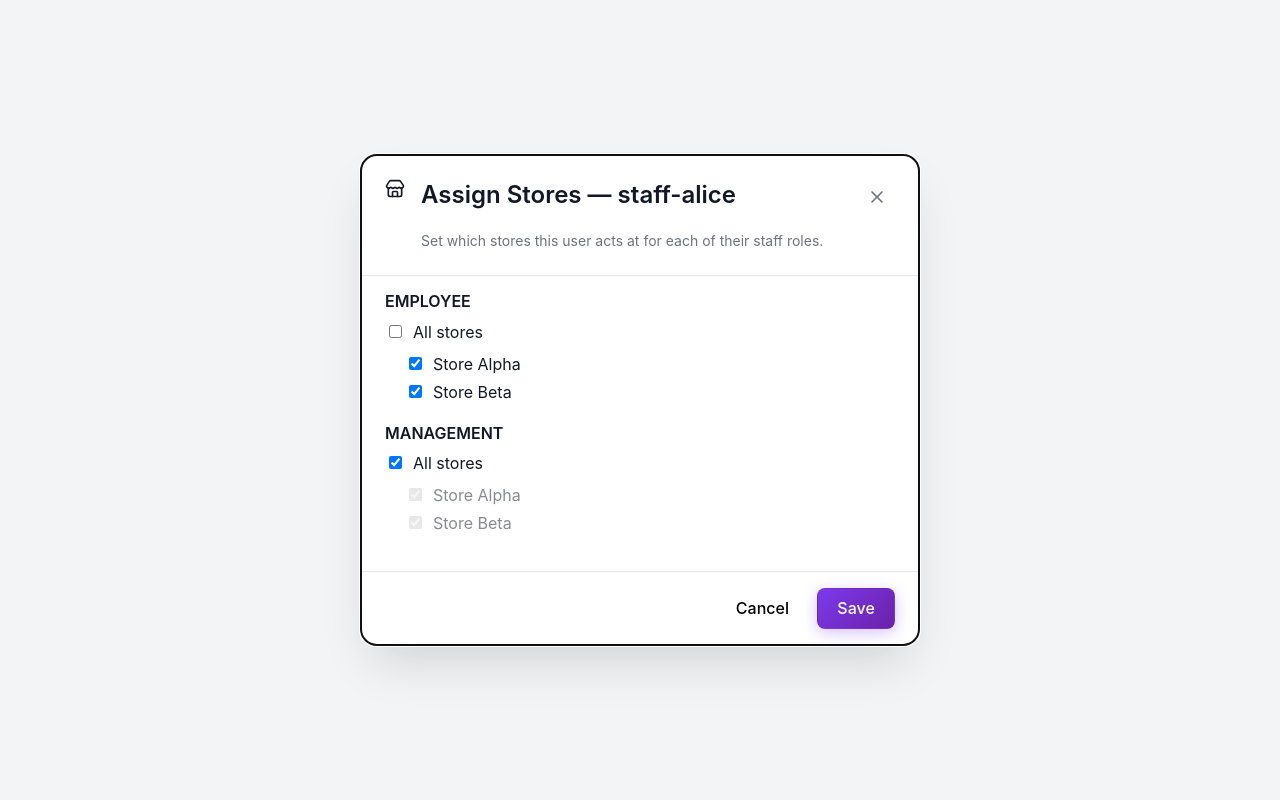
Test case: StoreRoleAssignmentModal › surfaces API error in a role="alert" element when save fails
The width and height of the screenshot is (1280, 800).
Expected: the heading "EMPLOYEE" is shown, x1=385 y1=291 x2=471 y2=311
Click the button "Save".
click(856, 608)  # box x1=817 y1=588 x2=895 y2=629
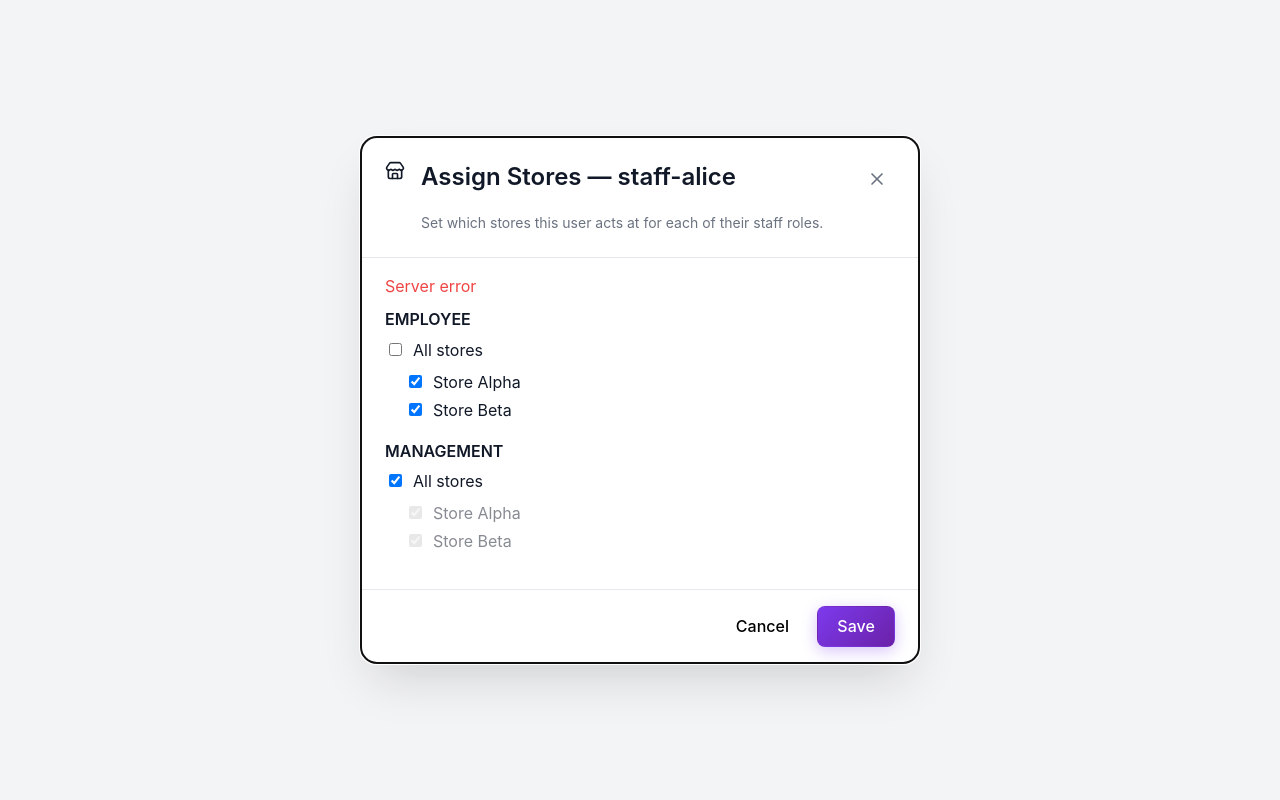
Result: the message reads "Server error" at x1=385 y1=276 x2=476 y2=296
